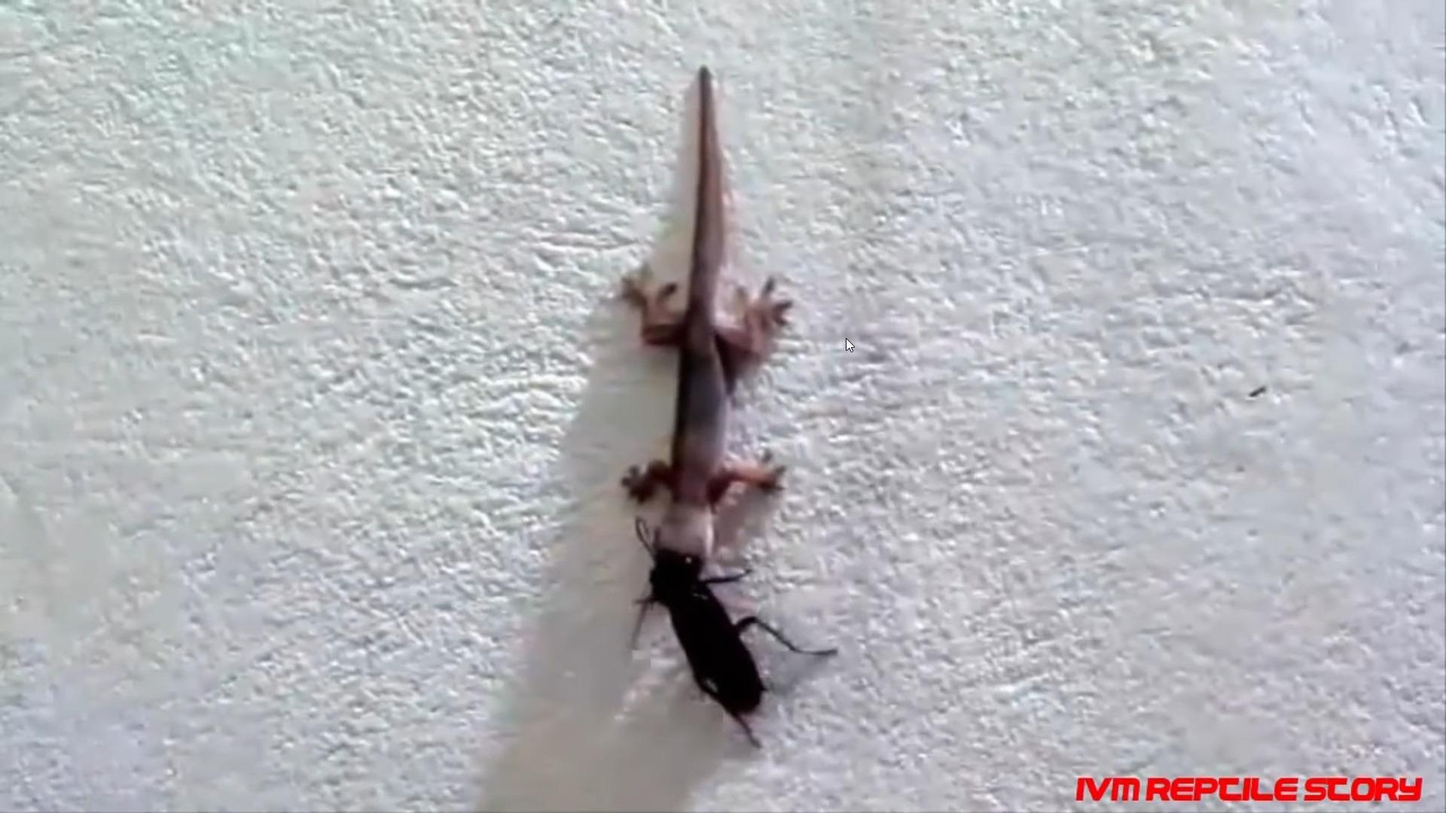cockroach: (651, 555, 772, 731)
lizard: (636, 94, 790, 586)
